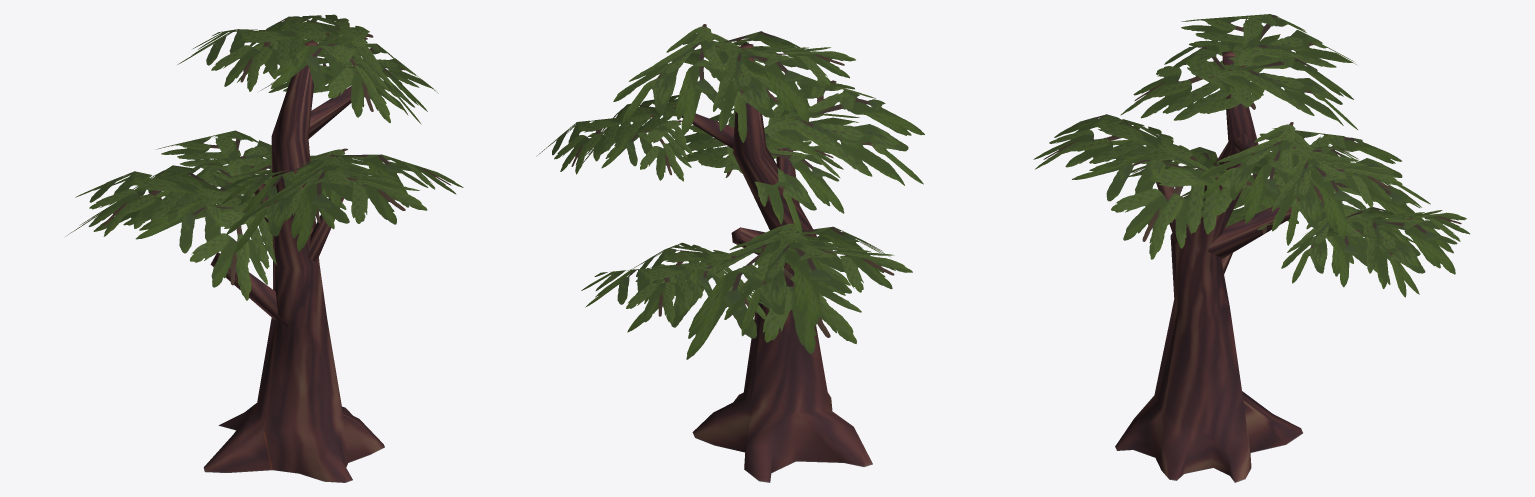
File: pine-tree-trunk-007-22.glb
3 renders of one model, left to right at view 1: azimuth 30°, elevation 25°; view 2: azimuth 150°, elevation 25°; view 3: azimuth 270°, elevation 25°, orthographic. The views are drawn at different scales.
Parts seen in each view (by area): view 1: pine_leaves.001_21, pine_Tree_Trunk.007_22; view 2: pine_leaves.001_21, pine_Tree_Trunk.007_22; view 3: pine_leaves.001_21, pine_Tree_Trunk.007_22.
Boxes of the visible parts, box(x1,y1,x2,y2) form: pine_leaves.001_21: box(65, 14, 463, 300); pine_Tree_Trunk.007_22: box(203, 40, 384, 482); pine_leaves.001_21: box(536, 24, 924, 359); pine_Tree_Trunk.007_22: box(673, 43, 872, 482); pine_leaves.001_21: box(1033, 14, 1469, 297); pine_Tree_Trunk.007_22: box(1115, 51, 1302, 482).
Bounding box in the file's own units: 29.5 × 30.4 × 34.77.
2 materials, 2 textured.
